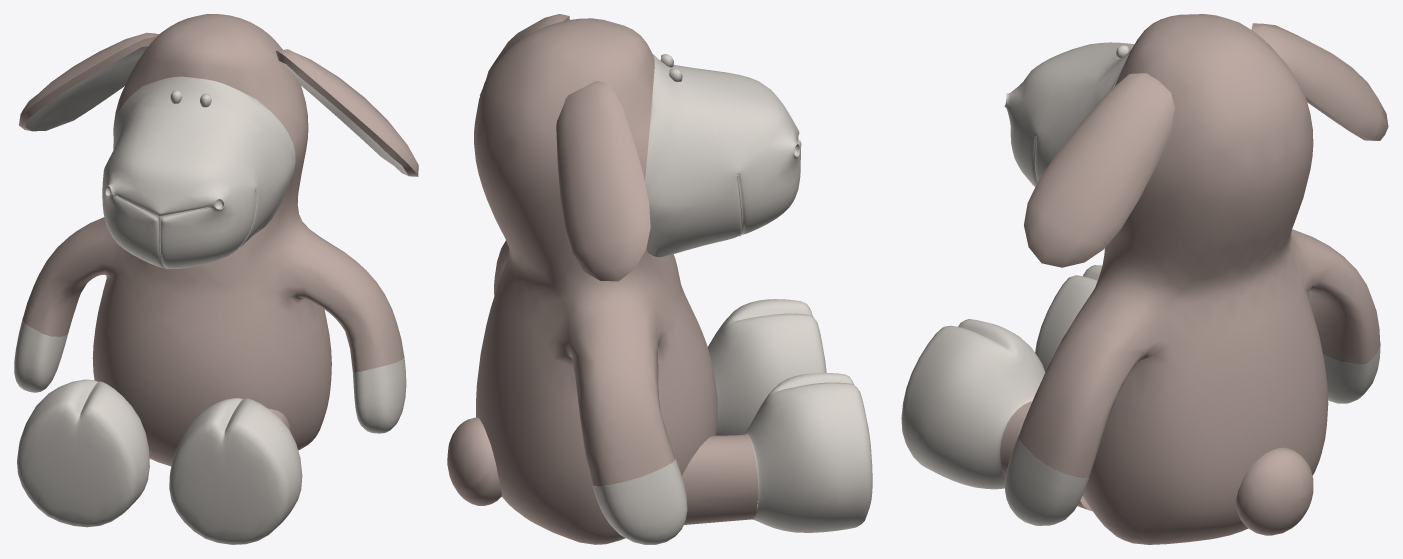
Rendered from peluche_oso_dante.obj.
3 views of the same model, side by side, from view 1: azimuth 30°, elevation 25°; view 2: azimuth 150°, elevation 25°; view 3: azimuth 270°, elevation 25° (orthographic). The views are drawn at different scales.
Visible parts, largest first — view 1: Mesh13 Component176_1_1 JianE_model_2021310174558747 Model, Mesh5 Component177_1_1 JianE_model_2021310174558747 Model, Mesh6 Component177_1_1 JianE_model_2021310174558747 Model, Mesh7 Component177_1_1 JianE_model_2021310174558747 Model, Mesh17 Component176_1_1 JianE_model_2021310174558747 Model, Mesh12 Component175_1_1 JianE_model_2021310174558747 Model, Mesh4 Component177_1_1 JianE_model_2021310174558747 Model, Mesh8 Component177_1_1 JianE_model_2021310174558747 Model, Mesh16 Component176_1_1 JianE_model_2021310174558747 Model, Mesh11 Component175_1_1 JianE_model_2021310174558747 Model; view 2: Mesh13 Component176_1_1 JianE_model_2021310174558747 Model, Mesh5 Component177_1_1 JianE_model_2021310174558747 Model, Mesh6 Component177_1_1 JianE_model_2021310174558747 Model, Mesh16 Component176_1_1 JianE_model_2021310174558747 Model, Mesh7 Component177_1_1 JianE_model_2021310174558747 Model, Mesh15 Component176_1_1 JianE_model_2021310174558747 Model, Mesh8 Component177_1_1 JianE_model_2021310174558747 Model, Mesh14 Component176_1_1 JianE_model_2021310174558747 Model, Mesh17 Component176_1_1 JianE_model_2021310174558747 Model; view 3: Mesh13 Component176_1_1 JianE_model_2021310174558747 Model, Mesh17 Component176_1_1 JianE_model_2021310174558747 Model, Mesh7 Component177_1_1 JianE_model_2021310174558747 Model, Mesh5 Component177_1_1 JianE_model_2021310174558747 Model, Mesh16 Component176_1_1 JianE_model_2021310174558747 Model, Mesh14 Component176_1_1 JianE_model_2021310174558747 Model, Mesh4 Component177_1_1 JianE_model_2021310174558747 Model, Mesh6 Component177_1_1 JianE_model_2021310174558747 Model, Mesh8 Component177_1_1 JianE_model_2021310174558747 Model, Mesh18 Component176_1_1 JianE_model_2021310174558747 Model.
Part boxes in pixels (bbox=[...]): Mesh13 Component176_1_1 JianE_model_2021310174558747 Model: bbox=[22, 14, 403, 466]; Mesh5 Component177_1_1 JianE_model_2021310174558747 Model: bbox=[102, 76, 295, 269]; Mesh6 Component177_1_1 JianE_model_2021310174558747 Model: bbox=[17, 379, 149, 527]; Mesh7 Component177_1_1 JianE_model_2021310174558747 Model: bbox=[169, 398, 302, 544]; Mesh17 Component176_1_1 JianE_model_2021310174558747 Model: bbox=[275, 49, 418, 176]; Mesh12 Component175_1_1 JianE_model_2021310174558747 Model: bbox=[25, 46, 148, 131]; Mesh4 Component177_1_1 JianE_model_2021310174558747 Model: bbox=[353, 355, 406, 433]; Mesh8 Component177_1_1 JianE_model_2021310174558747 Model: bbox=[14, 319, 68, 392]; Mesh16 Component176_1_1 JianE_model_2021310174558747 Model: bbox=[19, 32, 158, 131]; Mesh11 Component175_1_1 JianE_model_2021310174558747 Model: bbox=[279, 61, 408, 175]; Mesh13 Component176_1_1 JianE_model_2021310174558747 Model: bbox=[474, 18, 717, 544]; Mesh5 Component177_1_1 JianE_model_2021310174558747 Model: bbox=[645, 54, 801, 257]; Mesh6 Component177_1_1 JianE_model_2021310174558747 Model: bbox=[744, 373, 872, 532]; Mesh16 Component176_1_1 JianE_model_2021310174558747 Model: bbox=[556, 80, 650, 281]; Mesh7 Component177_1_1 JianE_model_2021310174558747 Model: bbox=[708, 299, 826, 435]; Mesh15 Component176_1_1 JianE_model_2021310174558747 Model: bbox=[682, 434, 758, 524]; Mesh8 Component177_1_1 JianE_model_2021310174558747 Model: bbox=[592, 457, 687, 544]; Mesh14 Component176_1_1 JianE_model_2021310174558747 Model: bbox=[447, 417, 501, 505]; Mesh17 Component176_1_1 JianE_model_2021310174558747 Model: bbox=[479, 14, 569, 95]; Mesh13 Component176_1_1 JianE_model_2021310174558747 Model: bbox=[1018, 14, 1379, 544]; Mesh17 Component176_1_1 JianE_model_2021310174558747 Model: bbox=[1024, 73, 1174, 267]; Mesh7 Component177_1_1 JianE_model_2021310174558747 Model: bbox=[901, 319, 1045, 489]; Mesh5 Component177_1_1 JianE_model_2021310174558747 Model: bbox=[1004, 42, 1134, 186]; Mesh16 Component176_1_1 JianE_model_2021310174558747 Model: bbox=[1251, 23, 1388, 140]; Mesh14 Component176_1_1 JianE_model_2021310174558747 Model: bbox=[1236, 447, 1313, 535]; Mesh4 Component177_1_1 JianE_model_2021310174558747 Model: bbox=[1005, 434, 1088, 525]; Mesh6 Component177_1_1 JianE_model_2021310174558747 Model: bbox=[1035, 265, 1102, 372]; Mesh8 Component177_1_1 JianE_model_2021310174558747 Model: bbox=[1323, 341, 1380, 403]; Mesh18 Component176_1_1 JianE_model_2021310174558747 Model: bbox=[1000, 401, 1092, 511].
Size of the model in its own units: 0.4473 by 0.4991 by 0.4433.
